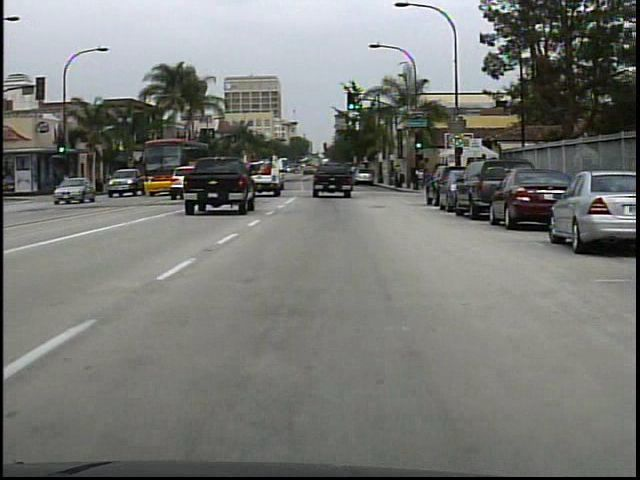person: (415, 166, 426, 192), (423, 168, 433, 191)
